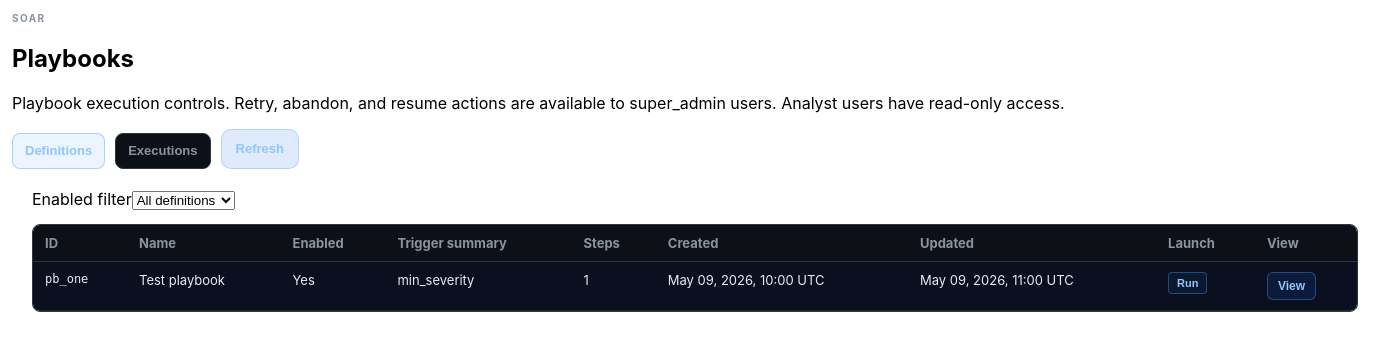
Test: execution load error
The width and height of the screenshot is (1375, 343).
Check: the text "pb_one" is shown, box [33,261,127,310]
Click the button "Executions": [163, 151] box [115,133,211,169]
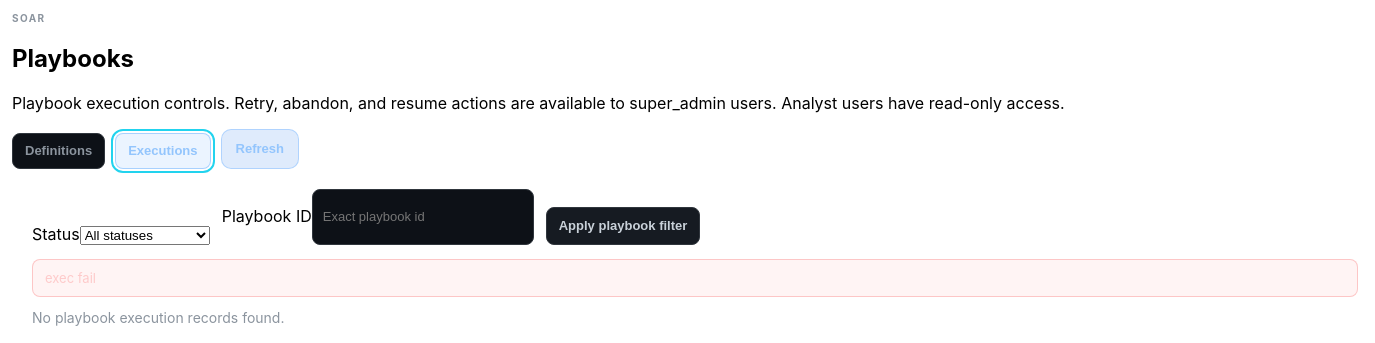
Check: the text "exec fail" is shown, box [32,259,1358,297]
